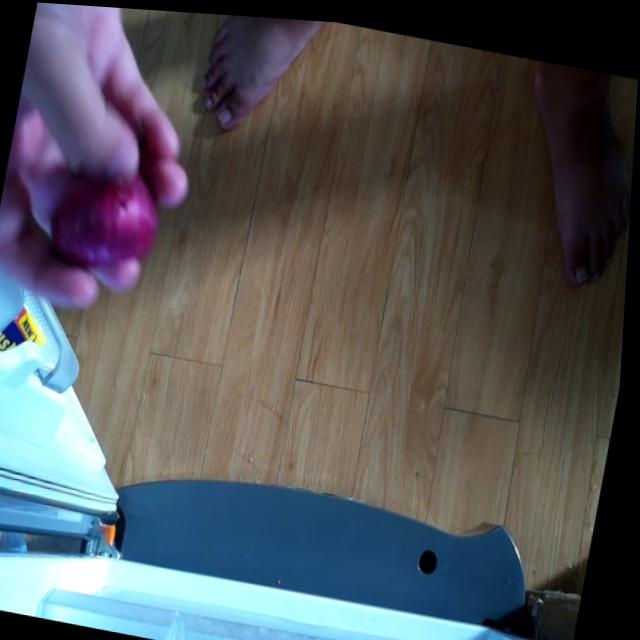onion: (43, 136, 173, 283)
